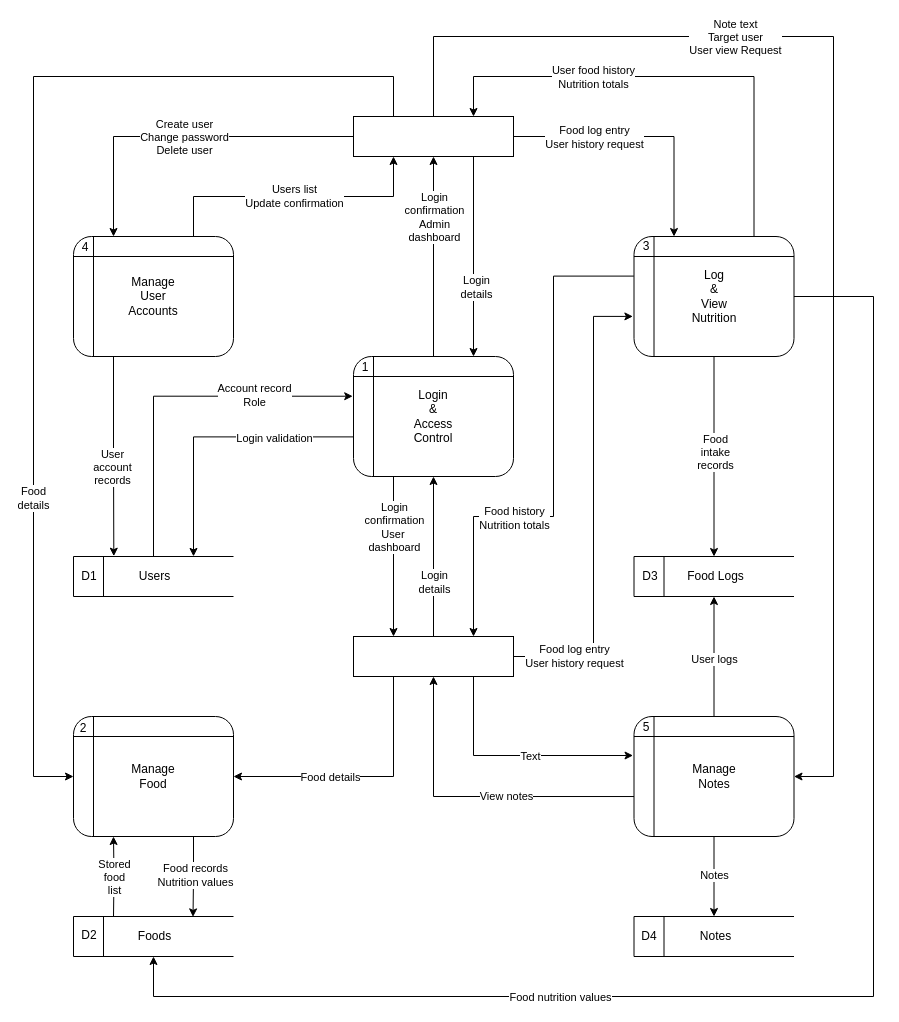
The diagram is 899 pixels wide and 1022 high, and some of its shapes have lost their labels. The shapes that lost their labels are listed below. From the top down, each one's centre as x and y in pixels, then its label:
point (433, 136): Administrator
point (433, 656): User
